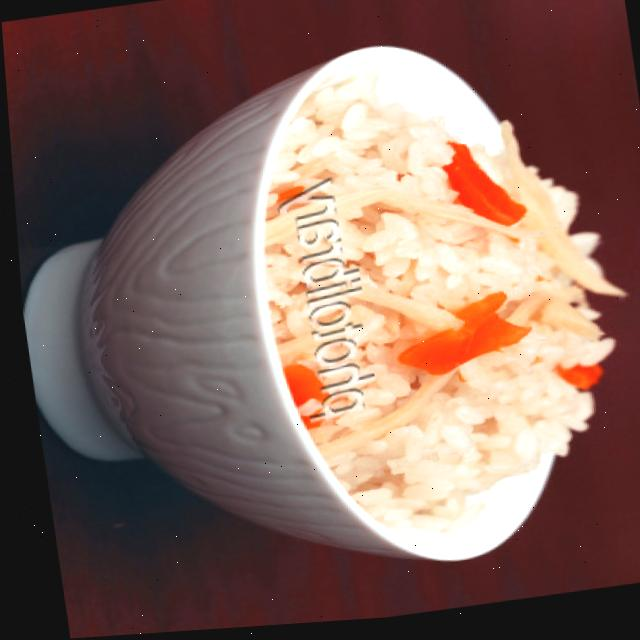米饭主食: (3, 21, 640, 632)
